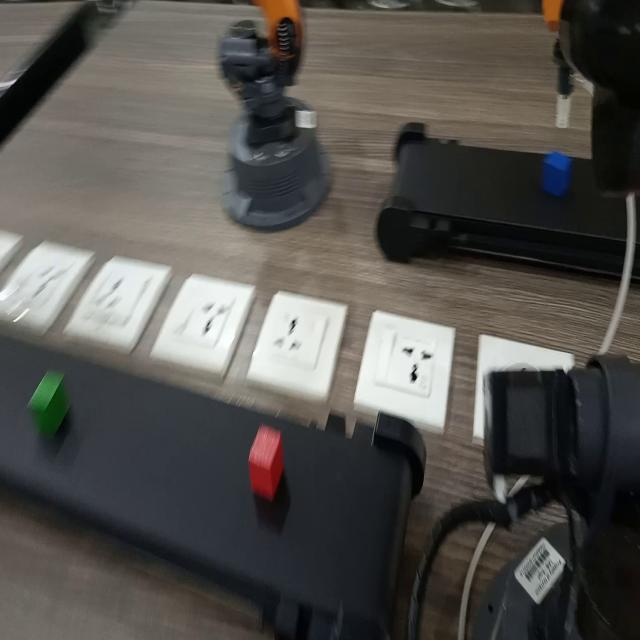cube: (238, 415, 293, 503), (23, 365, 72, 441), (540, 145, 573, 204)
